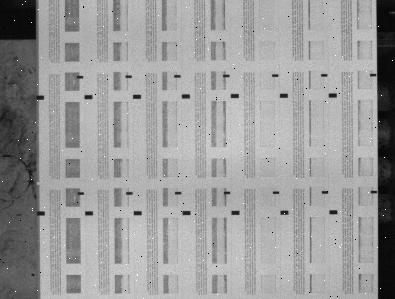backgroundclutter: (36, 182, 40, 186), (31, 274, 35, 277)
qblock: (280, 93, 289, 98), (329, 93, 338, 98), (36, 95, 44, 100), (182, 94, 190, 99), (232, 211, 240, 216), (183, 211, 191, 216), (133, 95, 142, 99), (37, 212, 45, 216), (85, 95, 93, 99), (231, 94, 239, 98), (85, 212, 93, 216), (134, 212, 142, 216), (281, 211, 289, 215), (330, 211, 338, 215)
smallqblock: (273, 191, 280, 195), (223, 74, 230, 78), (77, 75, 83, 79), (175, 192, 182, 195), (322, 191, 329, 194), (322, 74, 329, 77), (126, 192, 133, 195), (371, 191, 378, 194), (273, 74, 279, 77), (371, 74, 377, 77), (175, 75, 181, 78), (225, 192, 231, 195), (126, 75, 132, 78), (78, 192, 84, 195)
